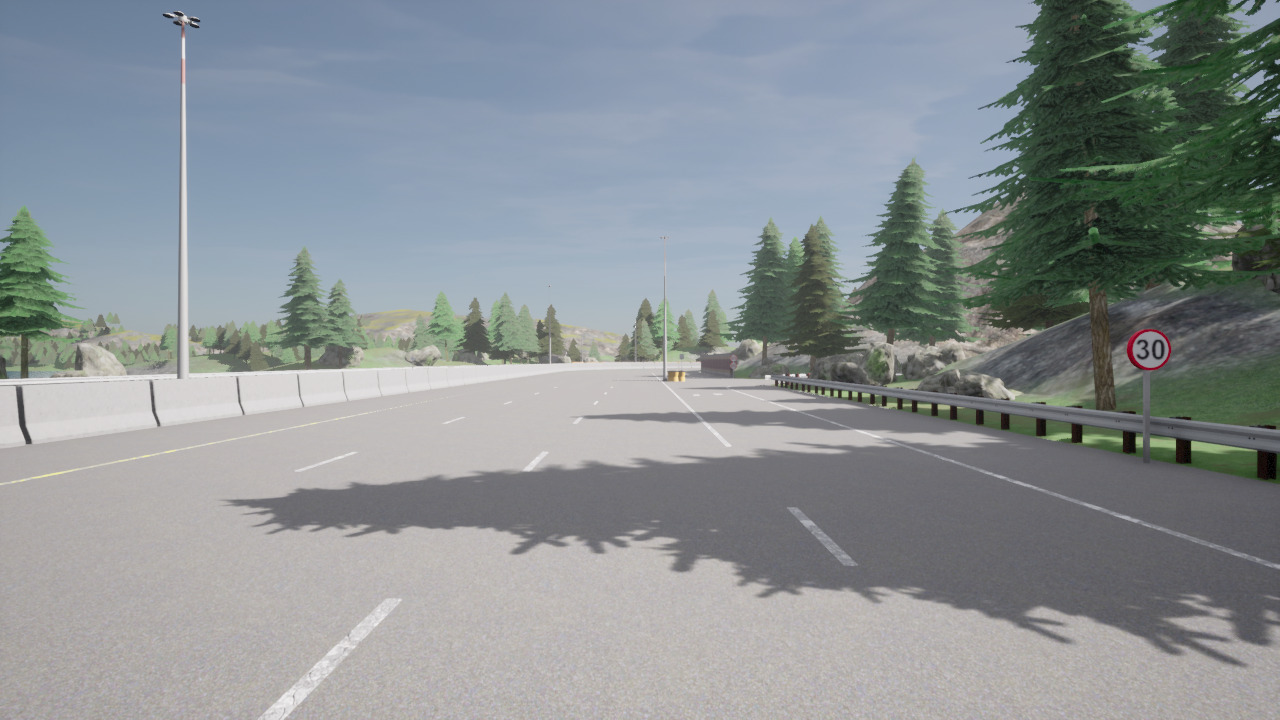sl30: (1126, 328, 1173, 372)
